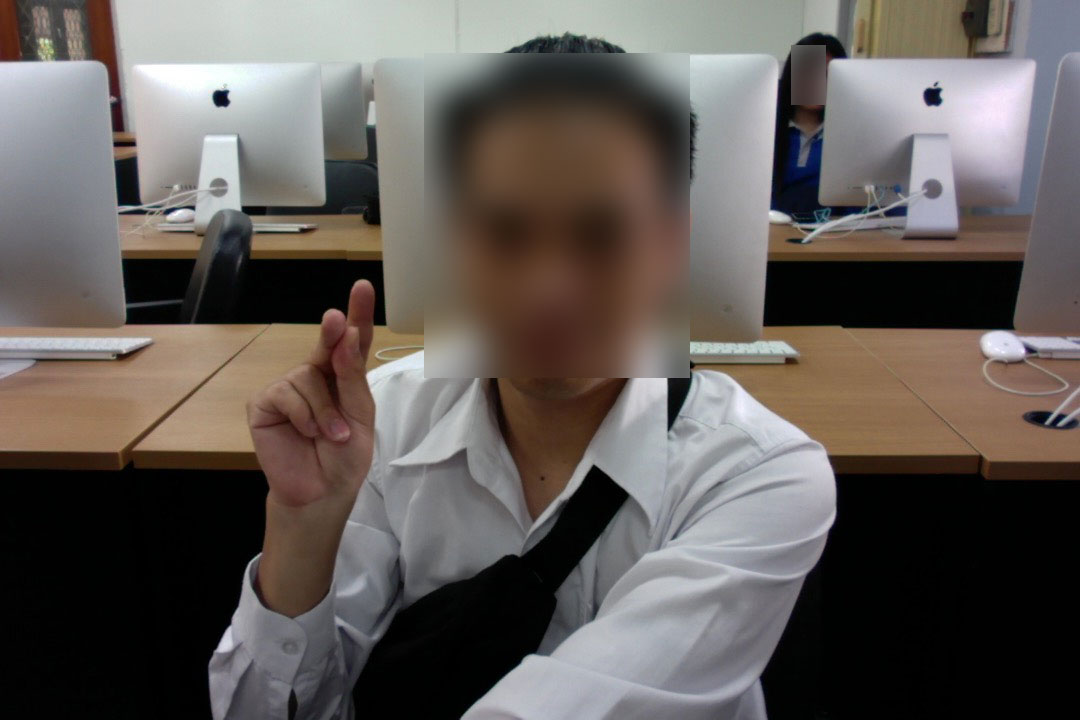ko: (239, 271, 404, 533)
